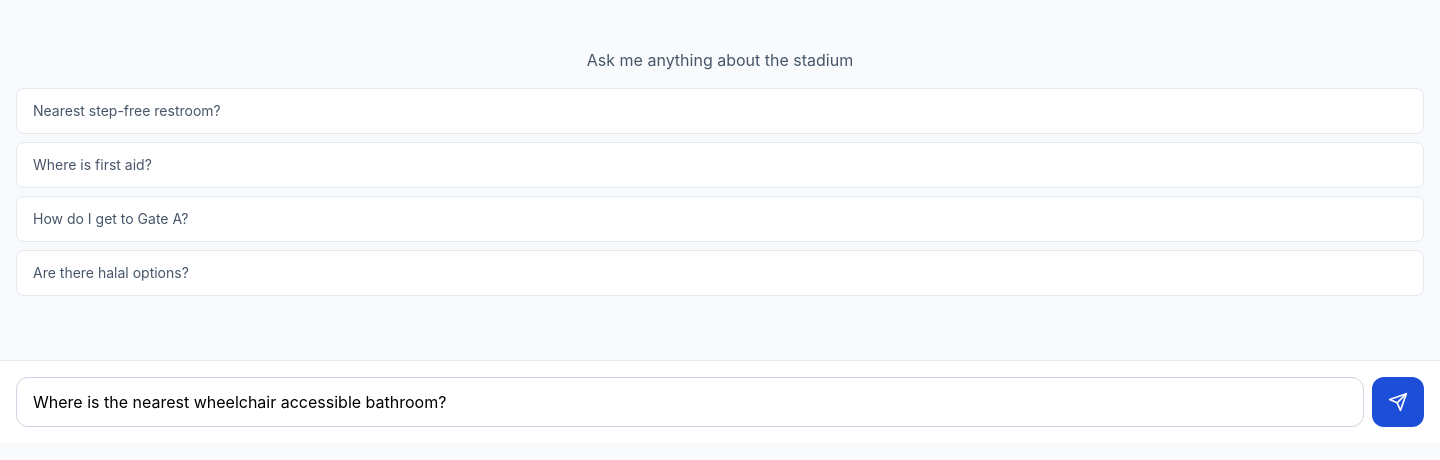
ChatInterface › displays the answer after successful fetch
The width and height of the screenshot is (1440, 460).
Replace the text in the field with placeholder "Ask about the stadium..." with "Where is the restroom?" at coordinates (690, 402), box [16,377,1364,427]
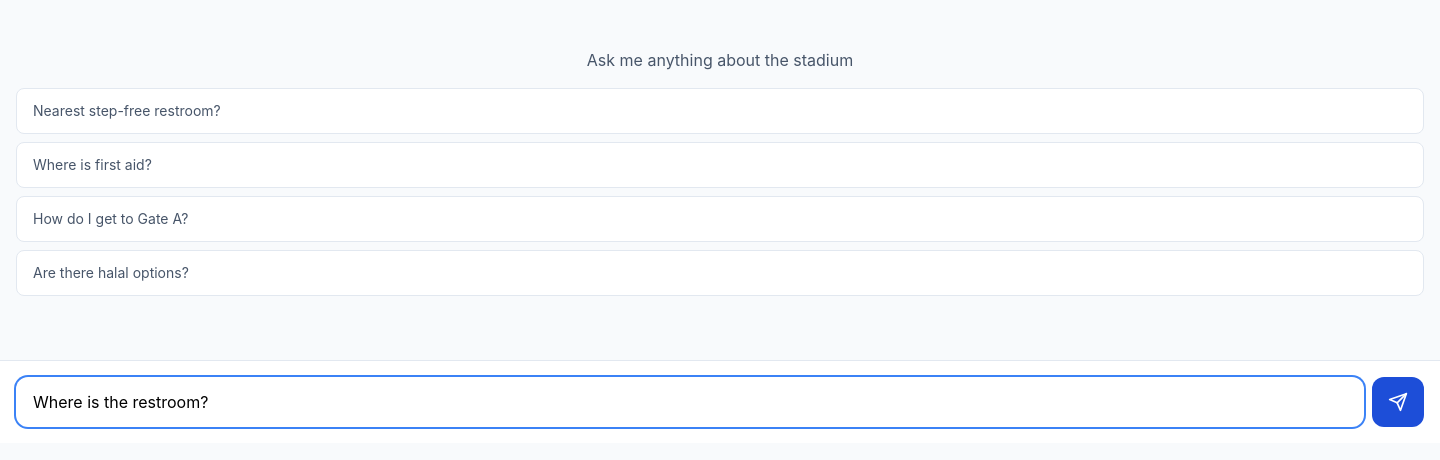
Submit the form with id "chat-form", box [0,360,1439,443]
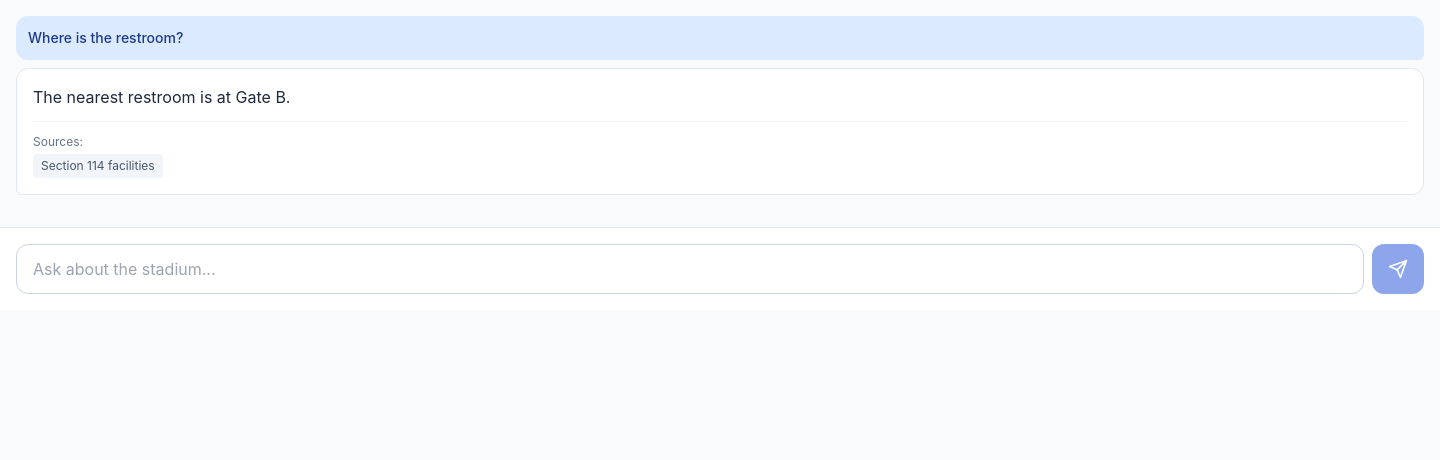
Expected: the text "The nearest restroom is at Gate B." is shown, [33,87,290,107]
